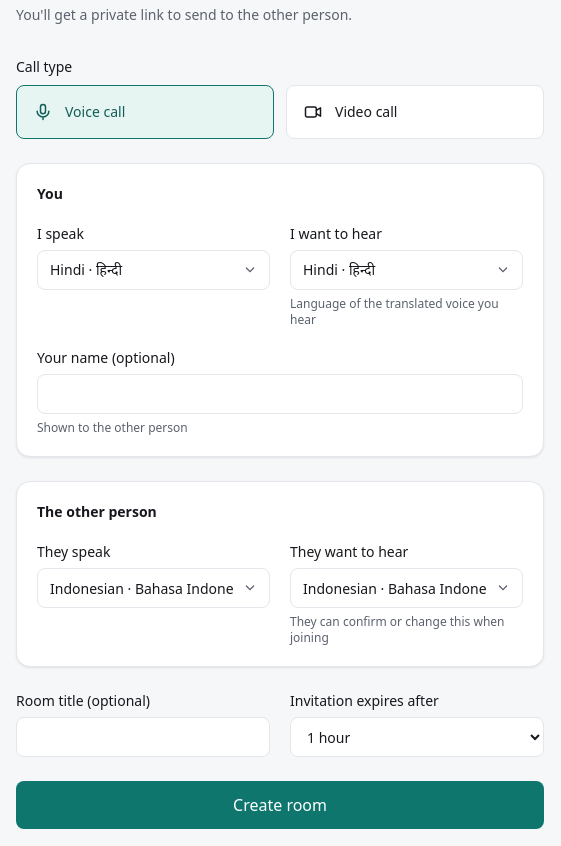
CreateRoomPage › shows the server error when creation fails
(page scrolled)
Click the button "Create room": (280, 805) [16, 781, 544, 829]
(page scrolled)
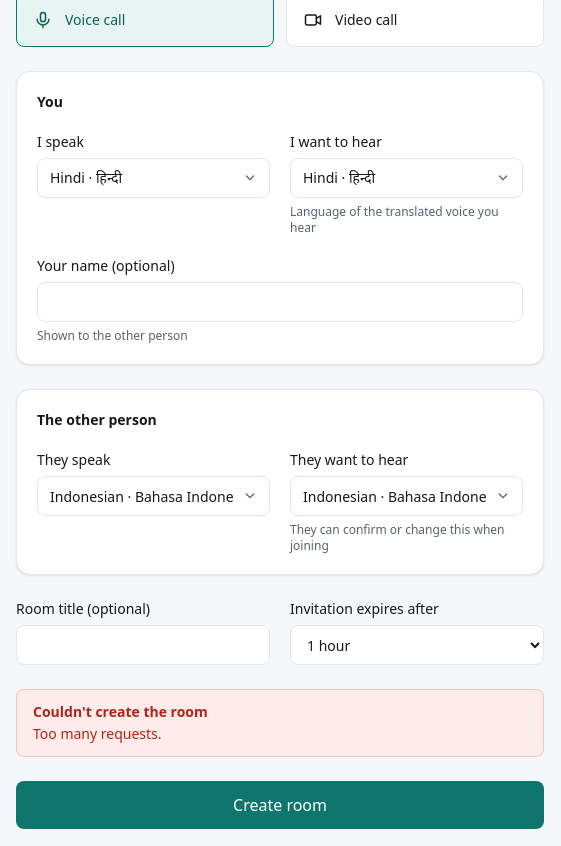
Check: the text "Too many requests." is shown, box [33, 724, 162, 743]
